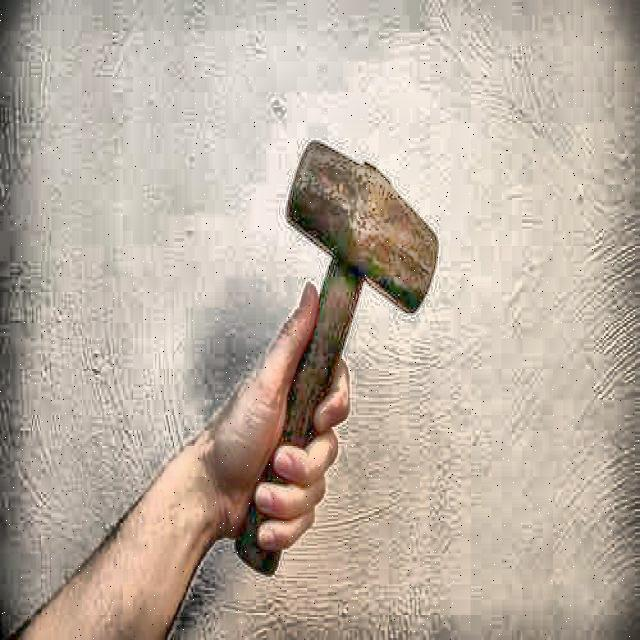hammer: (232, 134, 442, 574)
